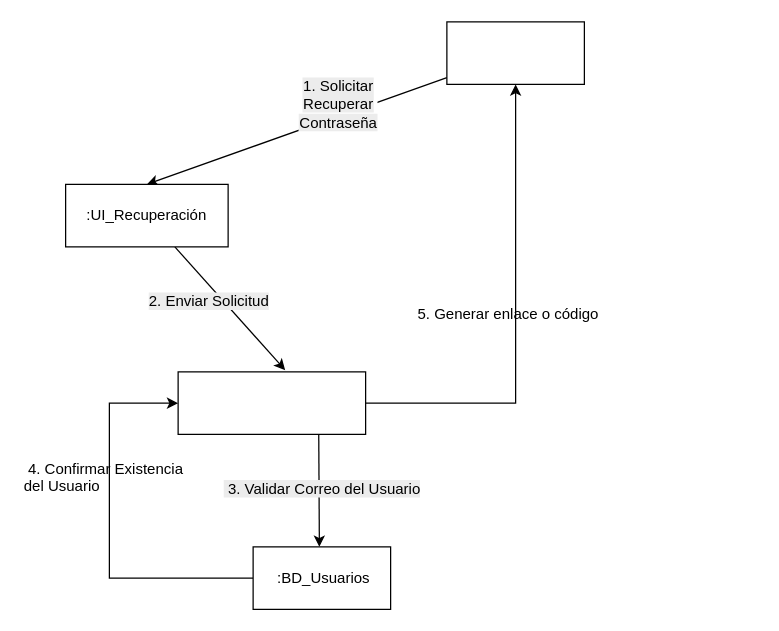
Image size: 779x631. Some labels were removed from this diagram. Each missing label, with the centre of its shape:
":SistemaRecuperación" goes at pixel 271 402.
":Usuario" goes at pixel 515 52.
